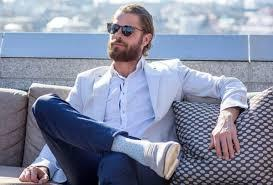FallenBody: (13, 1, 261, 185)
